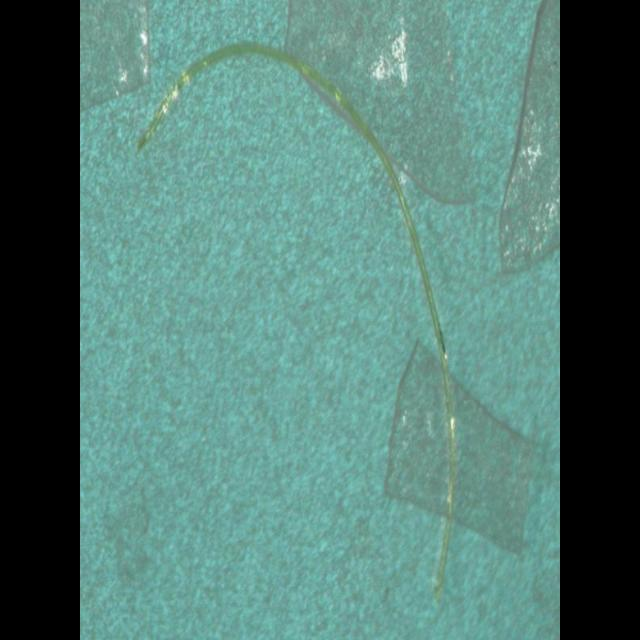Fibre: (137, 34, 460, 614)
